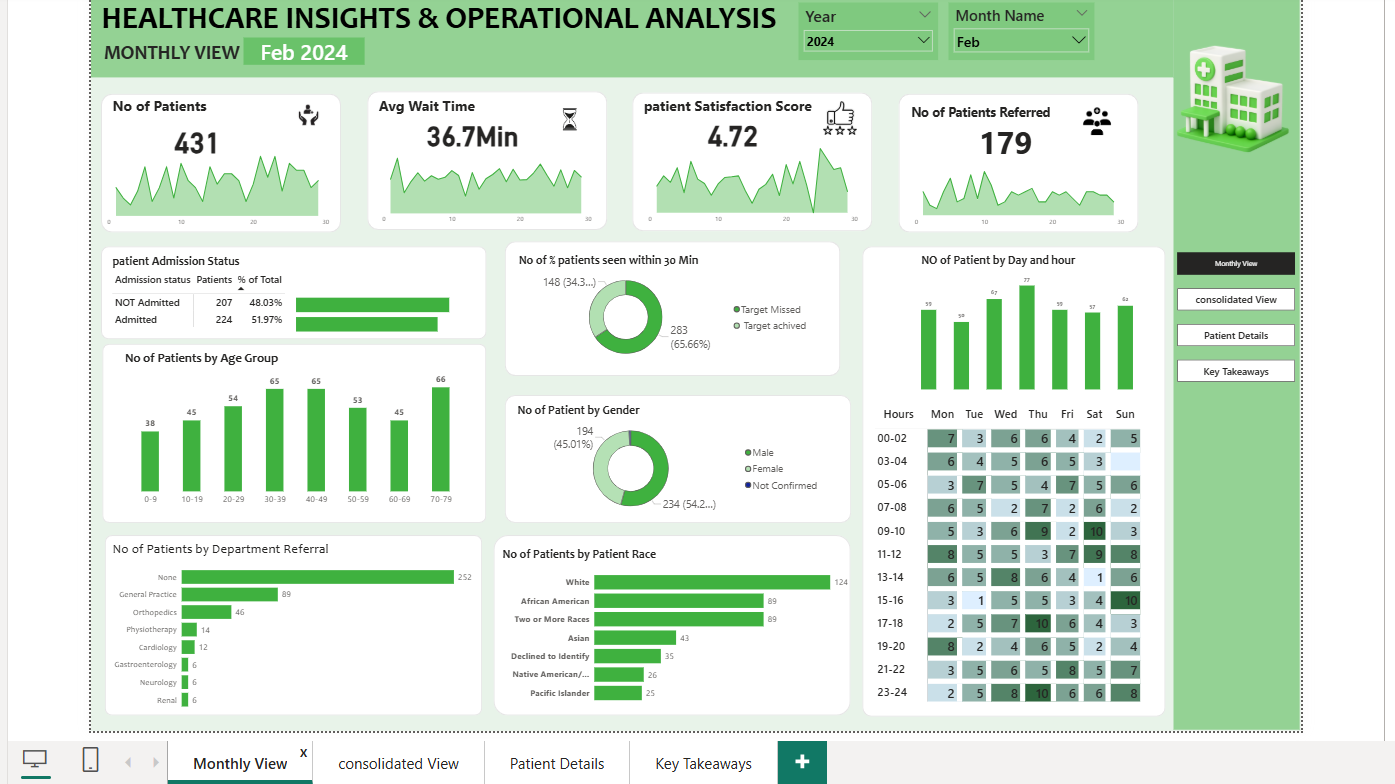

Layout of this report page (visuals, bound fields, positions):
{"tool":"powerbi","page":{"name":"Monthly View","canvas":[2300,1400],"ordinal":0},"visuals":[{"type":"shape","box":[2060,0,240,1397.8],"z":0},{"type":"shape","box":[0,2.4,2059.1,154.6],"z":1000},{"type":"textbox","box":[2.5,2.5,1989.8,115.9],"z":2000},{"type":"textbox","box":[19,80.8,1992.5,126],"z":3000},{"type":"shape","box":[19,187.8,456.5,263.9],"z":4000},{"type":"card","fields":{"Values":["Hospital_ER_Data.No of Patients"]},"box":[0,187.4,404.1,172.8],"z":5000},{"type":"slicer","fields":{"Values":["Date Table.Year"]},"box":[1346.2,14.6,265.3,109.5],"z":6000},{"type":"slicer","fields":{"Values":["Date Table.Month Name"]},"box":[1631,14.6,277.5,109.5],"z":7000},{"type":"card","fields":{"Values":["Min(Date Table.Month & Year)"]},"box":[290.1,80.8,230.6,52.3],"z":8000},{"type":"textbox","box":[36.5,187.4,654.8,56],"z":9000},{"type":"shape","box":[524.7,182.6,456.5,263.9],"z":10000},{"type":"shape","box":[1030.3,185.5,456.5,263.9],"z":11000},{"type":"shape","box":[1536,187.8,456.5,263.9],"z":12000},{"type":"textbox","box":[542.6,187.2,261.7,57.4],"z":13000},{"type":"card","fields":{"Values":["Hospital_ER_Data.Avg wait Time"]},"box":[592.1,216.4,254.4,92.7],"z":14000},{"type":"areaChart","fields":{"Category":["Date Table.Date.Variation.Date Hierarchy.Day"],"Y":["Avg(Hospital_ER_Data.Patient Waittime)"]},"box":[542.1,278.2,418.5,166.4],"z":15000},{"type":"areaChart","fields":{"Category":["Date Table.Date.Variation.Date Hierarchy.Day"],"Y":["Hospital_ER_Data.No of Patients"]},"box":[19,273.4,442.3,176],"z":16000},{"type":"textbox","box":[1046.2,187.8,456.5,69],"z":17000},{"type":"card","fields":{"Values":["Hospital_ER_Data.Satisfaction Score"]},"box":[1046.2,192.6,349.5,140.3],"z":18000},{"type":"areaChart","fields":{"Category":["Date Table.Date.Variation.Date Hierarchy.Day"],"Y":["Hospital_ER_Data.Satisfaction Score"]},"box":[1048.6,278.2,418.5,166.4],"z":19000},{"type":"shape","box":[17.9,476.9,733.3,176.9],"z":20000},{"type":"textbox","box":[1555,202.1,456.5,76.1],"z":21000},{"type":"card","fields":{"Values":["Hospital_ER_Data.No of Patient Referred"]},"box":[1652.5,233,173.6,88],"z":22000},{"type":"areaChart","fields":{"Category":["Date Table.Date.Variation.Date Hierarchy.Day"],"Y":["Hospital_ER_Data.No of Patient Referred"]},"box":[1555,309.1,418.5,140.3],"z":23000},{"type":"pivotTable","title":"patient Admission Status","fields":{"Rows":["Hospital_ER_Data.Admission status"],"Values":["Hospital_ER_Data.No of Patients1","Hospital_ER_Data.No of Patients"]},"box":[35.9,492.3,556.4,148.7],"z":24000},{"type":"barChart","fields":{"Category":["Hospital_ER_Data.Admission status"],"Y":["Hospital_ER_Data.No of Patients"]},"box":[385.2,544.5,335.3,121.3],"z":25000},{"type":"shape","box":[20.5,664.1,730.8,341],"z":26000},{"type":"clusteredColumnChart","fields":{"Category":["Hospital_ER_Data.Age Group"],"Y":["Hospital_ER_Data.No of Patients"]},"box":[59,674.4,661.5,305.1],"z":27000},{"type":"shape","box":[25.6,1028.2,717.9,343.6],"z":28000},{"type":"clusteredBarChart","fields":{"Category":["Hospital_ER_Data.Department Referral"],"Y":["Hospital_ER_Data.No of Patients"]},"box":[35.9,1035.9,697.4,335.9],"z":29000},{"type":"shape","box":[787.2,469.2,638.5,256.4],"z":30000},{"type":"donutChart","title":"No of % patients seen within 30 Min","fields":{"Category":["Hospital_ER_Data.waittime status"],"Y":["Hospital_ER_Data.No of Patients"]},"box":[807.7,489.7,566.7,217.9],"z":31000},{"type":"shape","box":[787.2,761.5,659,243.6],"z":32000},{"type":"donutChart","title":"No of Patient by Gender","fields":{"Y":["Hospital_ER_Data.No of Patients"],"Category":["Hospital_ER_Data.Patient Gender"]},"box":[805.1,774.4,589.7,223.1],"z":33000},{"type":"shape","box":[766.7,1028.2,679.5,343.6],"z":34000},{"type":"clusteredBarChart","fields":{"Category":["Hospital_ER_Data.Patient Race"],"Y":["Hospital_ER_Data.No of Patients"]},"box":[776.9,1048.7,669.2,312.8],"z":35000},{"type":"shape","box":[1466.7,476.9,576.9,894.9],"z":36000},{"type":"pivotTable","fields":{"Rows":["Hospital_ER_Data.Waittime Interval"],"Columns":["Date Table.Day Name"],"Values":["Hospital_ER_Data.No of Patients"]},"box":[1487.2,774.4,541,576.9],"z":37000},{"type":"columnChart","title":"NO of Patient by Day and hour","fields":{"Category":["Date Table.Day Name"],"Y":["Hospital_ER_Data.No of Patients"]},"box":[1574.4,489.7,415.4,266.7],"z":38000},{"type":"image","box":[351.4,198.6,124.3,57.1],"z":39000},{"type":"image","box":[857.4,193.6,104.3,83],"z":40000},{"type":"image","box":[1376.6,202.1,95.7,63.8],"z":41000},{"type":"image","box":[1827.7,208.5,170.2,61.7],"z":42000},{"type":"image","box":[2042.2,44.4,257.8,295.6],"z":43000},{"type":"pageNavigator","box":[2066.7,488.9,224.4,248.9],"z":44000}]}

Visuals, with their boxes on the page's 2300x1400 design canvas (x1, y1, x2, y2). These are canvas units, not pixel positions in the 1395x784 screenshot, which may show the page scaled, cropped or inside an application window:
shape: [2060, 0, 2300, 1398]
shape: [0, 2, 2059, 157]
textbox: [2, 2, 1992, 118]
textbox: [19, 81, 2012, 207]
shape: [19, 188, 476, 452]
card - Hospital_ER_Data.No of Patients: [0, 187, 404, 360]
slicer - Date Table.Year: [1346, 15, 1612, 124]
slicer - Date Table.Month Name: [1631, 15, 1908, 124]
card - Min(Date Table.Month & Year): [290, 81, 521, 133]
textbox: [36, 187, 691, 243]
shape: [525, 183, 981, 446]
shape: [1030, 186, 1487, 449]
shape: [1536, 188, 1992, 452]
textbox: [543, 187, 804, 245]
card - Hospital_ER_Data.Avg wait Time: [592, 216, 846, 309]
areaChart - Date Table.Date.Variation.Date Hierarchy.Day x Avg(Hospital_ER_Data.Patient Waittime): [542, 278, 961, 445]
areaChart - Date Table.Date.Variation.Date Hierarchy.Day x Hospital_ER_Data.No of Patients: [19, 273, 461, 449]
textbox: [1046, 188, 1503, 257]
card - Hospital_ER_Data.Satisfaction Score: [1046, 193, 1396, 333]
areaChart - Date Table.Date.Variation.Date Hierarchy.Day x Hospital_ER_Data.Satisfaction Score: [1049, 278, 1467, 445]
shape: [18, 477, 751, 654]
textbox: [1555, 202, 2012, 278]
card - Hospital_ER_Data.No of Patient Referred: [1652, 233, 1826, 321]
areaChart - Date Table.Date.Variation.Date Hierarchy.Day x Hospital_ER_Data.No of Patient Referred: [1555, 309, 1974, 449]
"patient Admission Status" pivotTable: [36, 492, 592, 641]
barChart - Hospital_ER_Data.Admission status x Hospital_ER_Data.No of Patients: [385, 544, 720, 666]
shape: [20, 664, 751, 1005]
clusteredColumnChart - Hospital_ER_Data.Age Group x Hospital_ER_Data.No of Patients: [59, 674, 720, 980]
shape: [26, 1028, 744, 1372]
clusteredBarChart - Hospital_ER_Data.Department Referral x Hospital_ER_Data.No of Patients: [36, 1036, 733, 1372]
shape: [787, 469, 1426, 726]
"No of % patients seen within 30 Min" donutChart: [808, 490, 1374, 708]
shape: [787, 762, 1446, 1005]
"No of Patient by Gender" donutChart: [805, 774, 1395, 998]
shape: [767, 1028, 1446, 1372]
clusteredBarChart - Hospital_ER_Data.Patient Race x Hospital_ER_Data.No of Patients: [777, 1049, 1446, 1362]
shape: [1467, 477, 2044, 1372]
pivotTable - Hospital_ER_Data.Waittime Interval x Date Table.Day Name: [1487, 774, 2028, 1351]
"NO of Patient by Day and hour" columnChart: [1574, 490, 1990, 756]
image: [351, 199, 476, 256]
image: [857, 194, 962, 277]
image: [1377, 202, 1472, 266]
image: [1828, 208, 1998, 270]
image: [2042, 44, 2300, 340]
pageNavigator: [2067, 489, 2291, 738]
